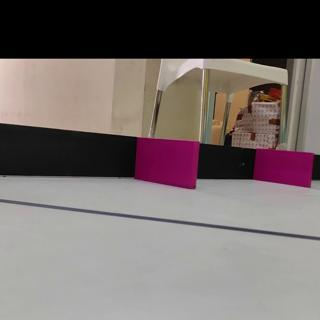xparking: (140, 141, 197, 185), (255, 151, 313, 185)
